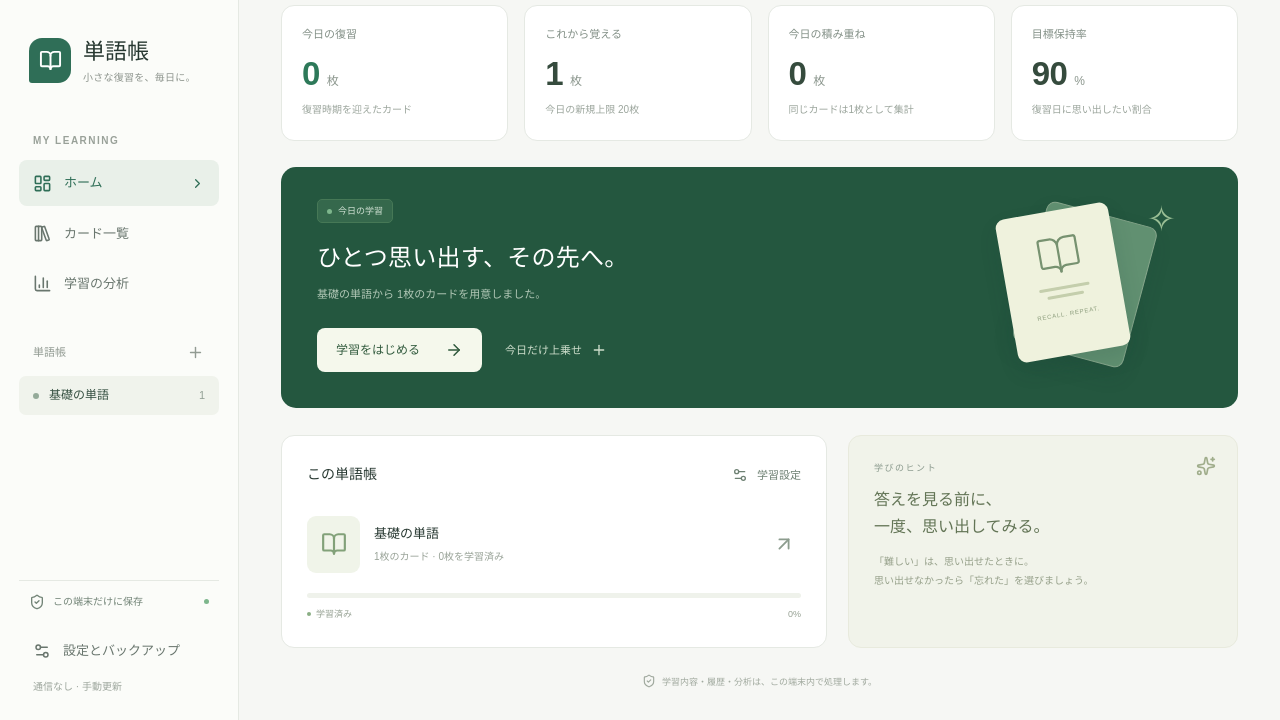
Scenario: deck deletion › keeps the deck and confirmation visible when saving the deletion fails
(page scrolled)
Click the button "学習設定" at (766, 475), box [732,461,801,489]
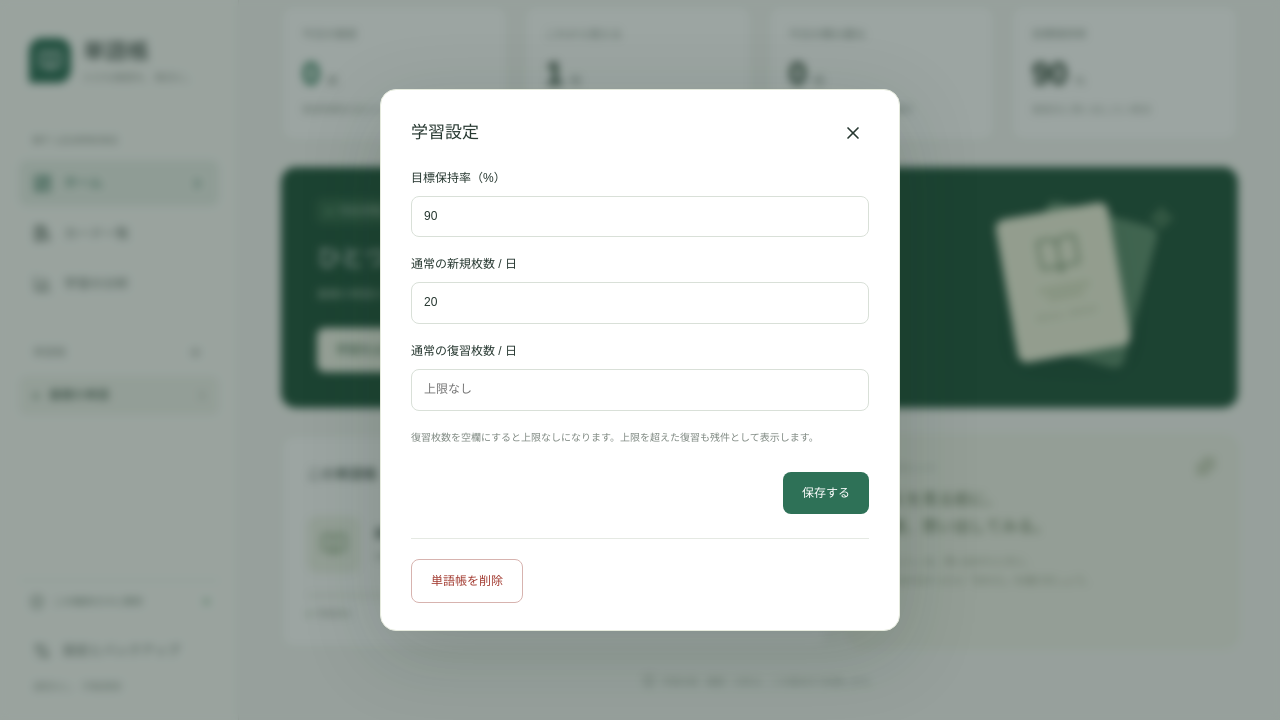
Click the button "単語帳を削除" at (467, 581), box [411,559,523,603]
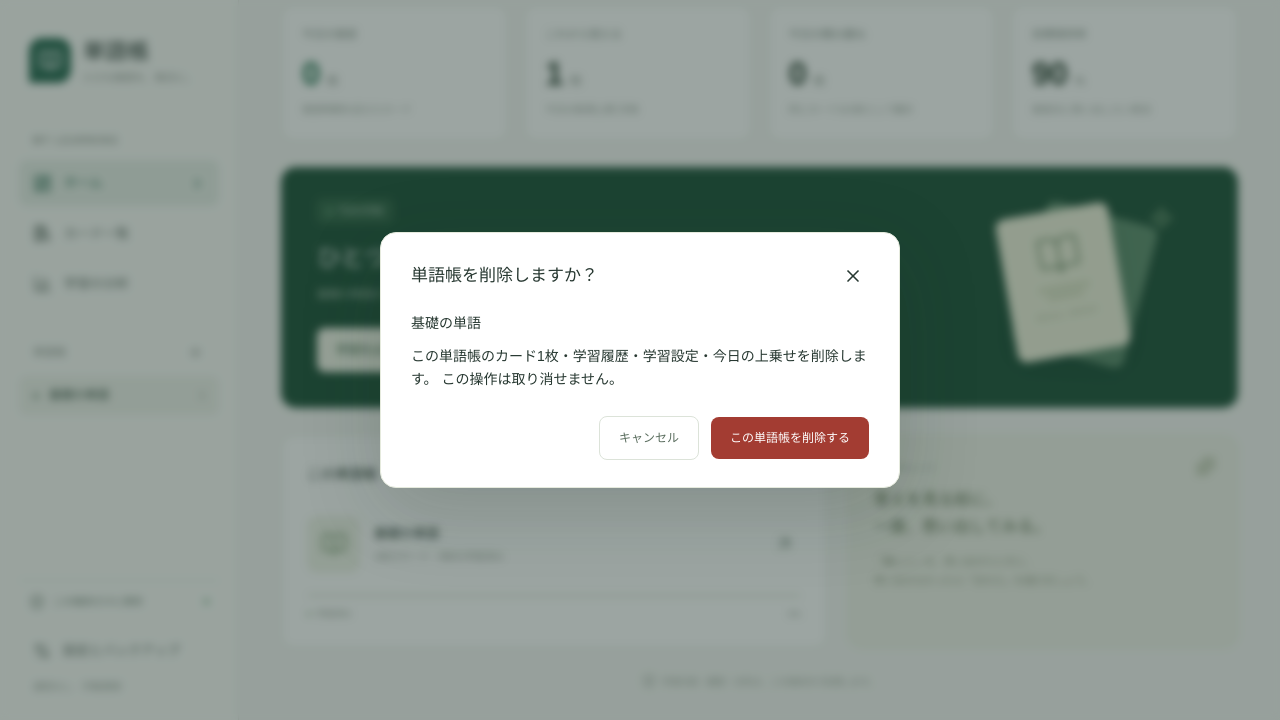
Click the button "この単語帳を削除する" at (790, 438), box [711,417,869,459]
(page scrolled)
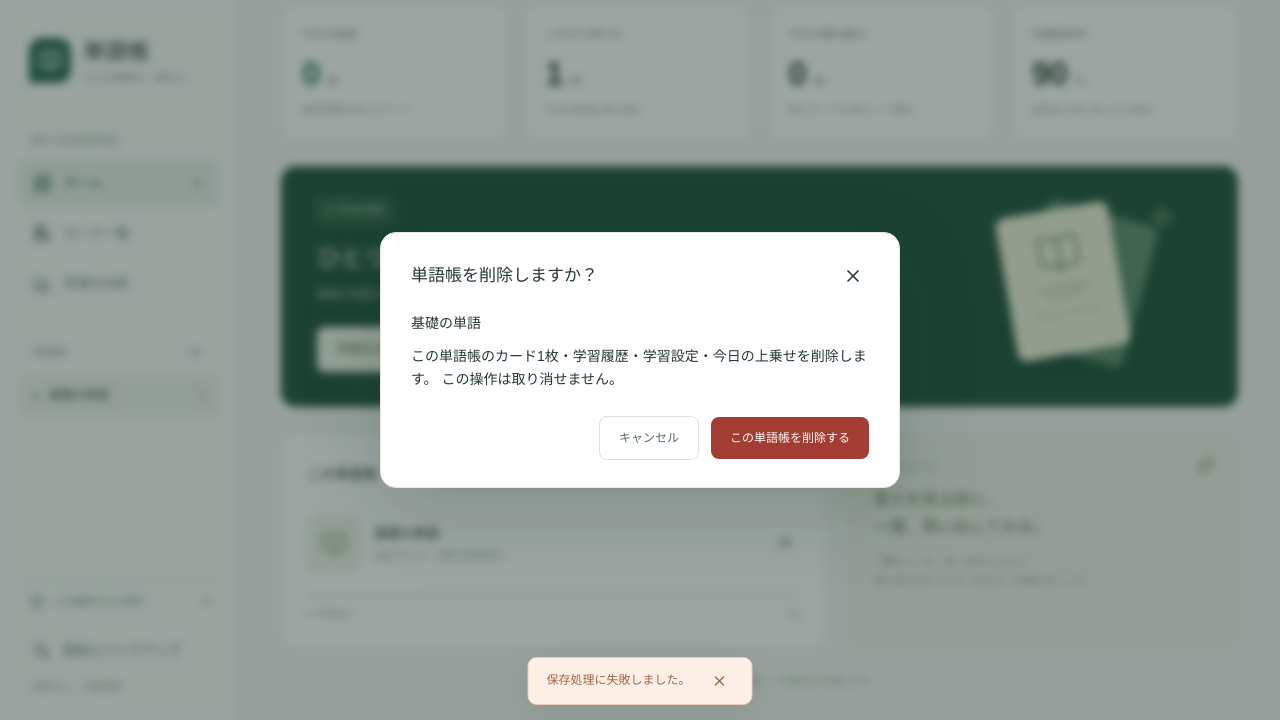
Result: the dialog "単語帳を削除しますか？" is shown at [380,232,900,488]
Result: the message reads "保存処理に失敗しました。" at [546,673,690,687]
